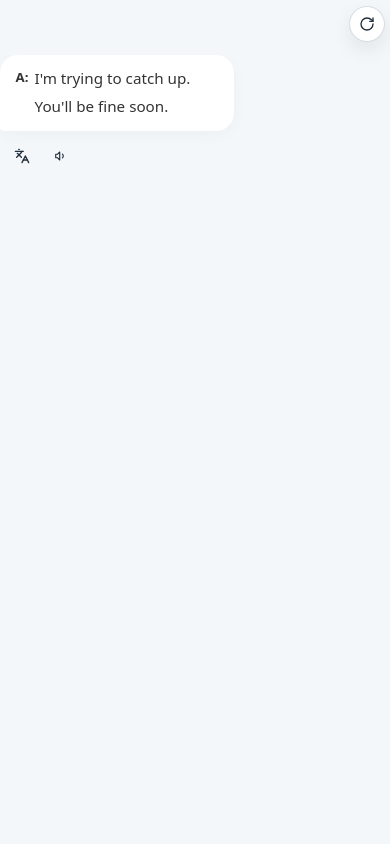
Test: LessonReader 在移动端点击句子后会打开详情 sheet 并激活首个短语
What coordinates should you click on to do the following:
click the text "You'll be fine soon."
I would click on:
 (101, 106)
Its box is [34,96,168,116].
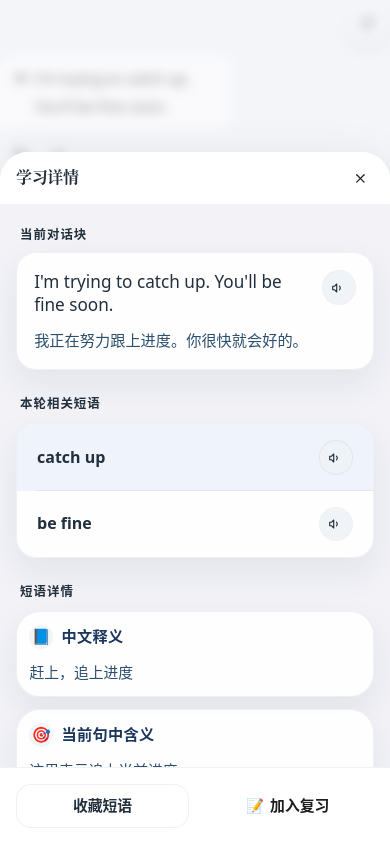
Result: the text "赶上，追上进度" is shown at [30,662,133,682]
